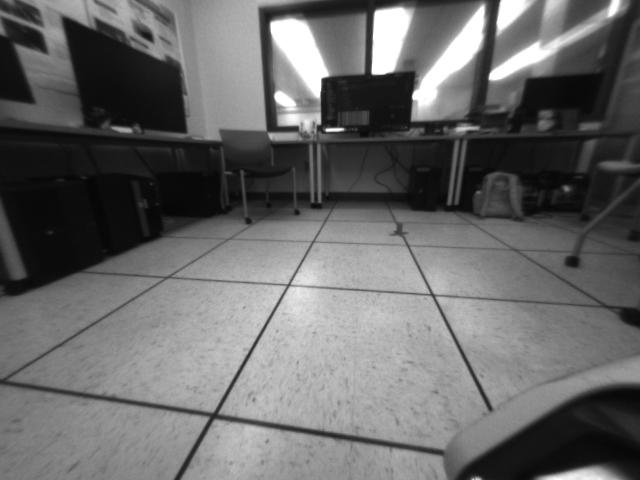X: (388, 221, 410, 238)
